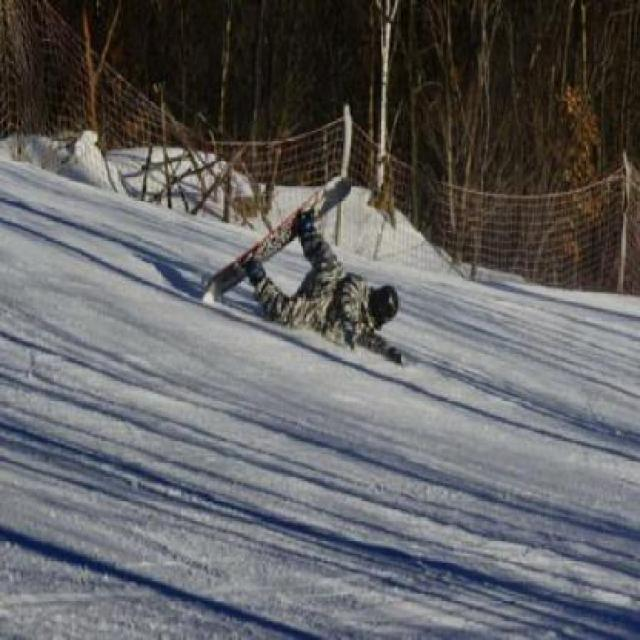fall: (208, 175, 414, 371)
